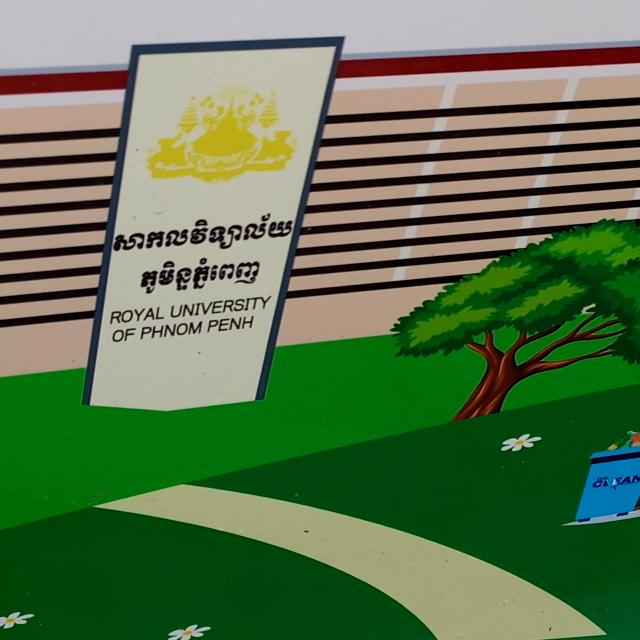Yolov11_80vkh: (109, 208, 297, 257), (135, 252, 267, 296)
